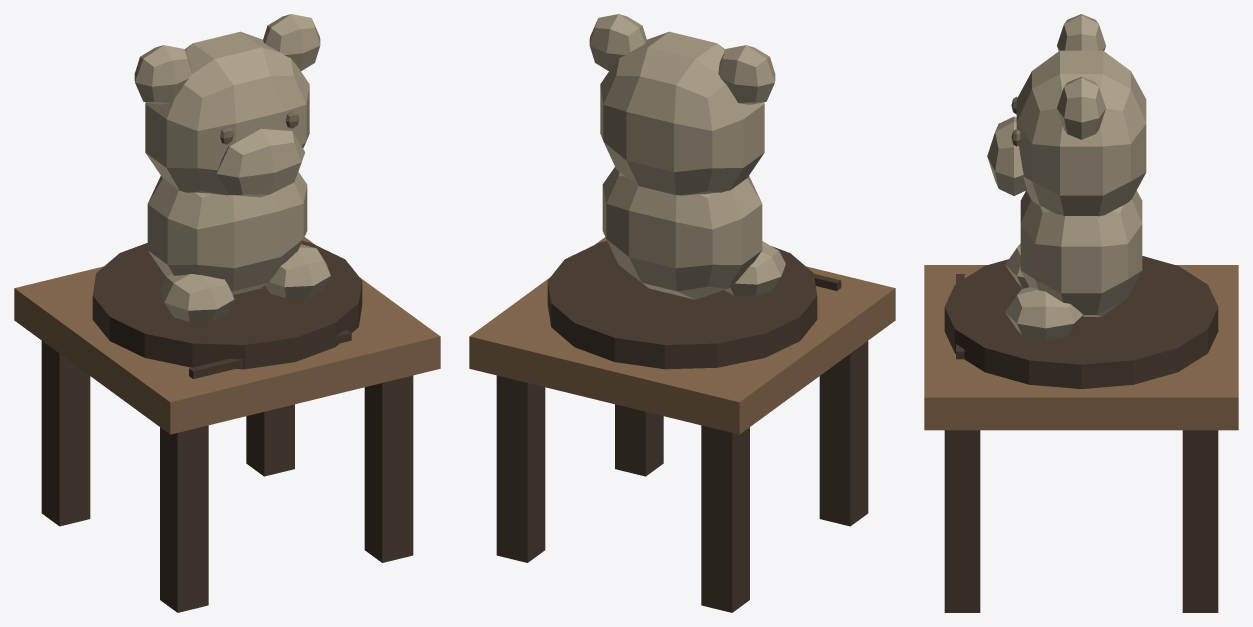
File: 09_Sculpture_Workstation.fbx
3 renders of one model, left to right at view 1: azimuth 30°, elevation 25°; view 2: azimuth 150°, elevation 25°; view 3: azimuth 270°, elevation 25°, orthographic.
Parts seen in each view (by area): view 1: Structure.007; view 2: Structure.007; view 3: Structure.007.
Boxes of the visible parts, left/top/right/bottom form: Structure.007: left=14, top=14, right=440, bottom=612; Structure.007: left=469, top=14, right=895, bottom=612; Structure.007: left=924, top=14, right=1238, bottom=612.
Size of the model in its own units: 140 by 250 by 140.
